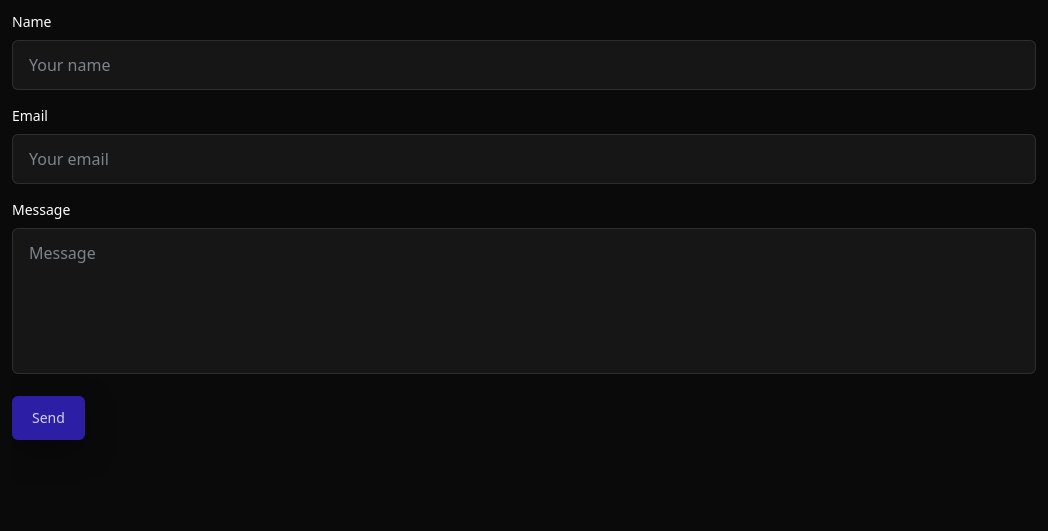
Test case: ContactForm › announces a request timeout
Type "Gabriel" into the field with placeholder "Your name".
click(524, 65); type("Gabriel")  # box [12,40,1036,90]
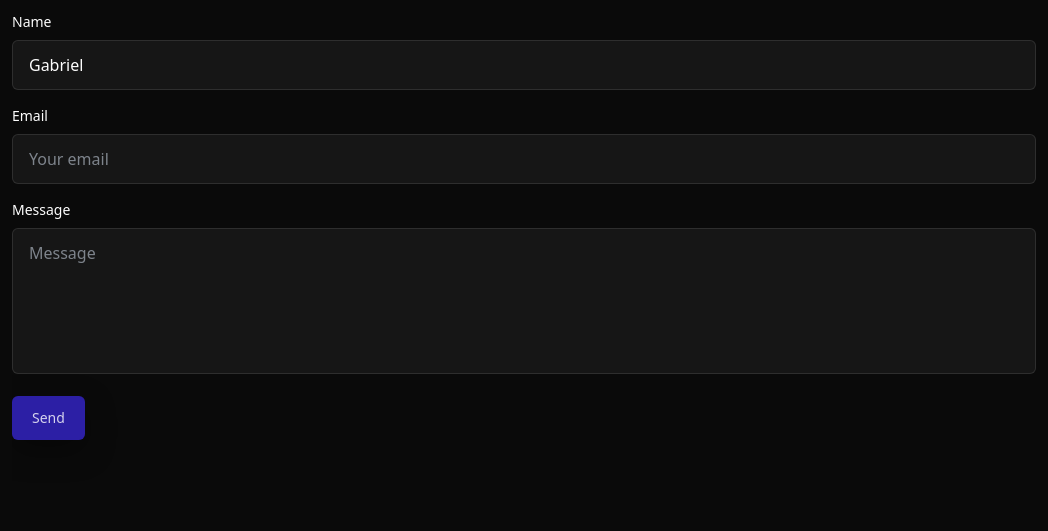
Type "gabriel@example.com" into the field with placeholder "Your email".
click(524, 159); type("gabriel@example.com")  # box [12,134,1036,184]
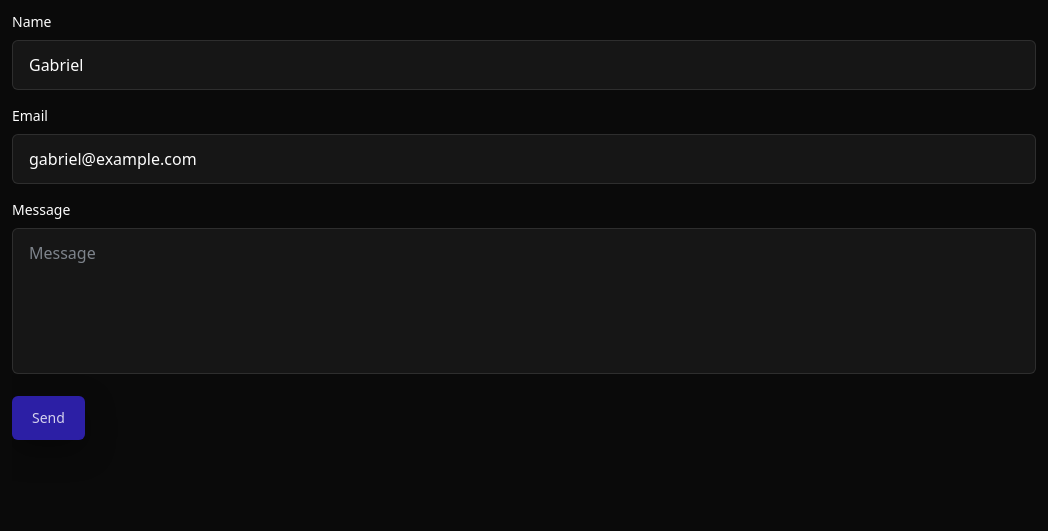
Type "Hello" into the text box with placeholder "Message".
click(524, 301); type("Hello")  # box [12,228,1036,374]
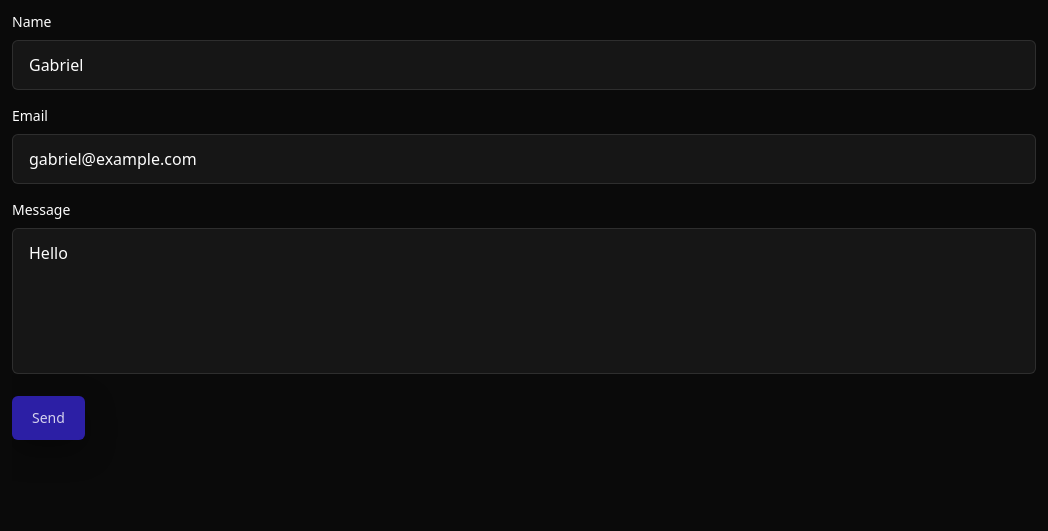
Click the button "Send".
click(48, 418)  # box [12,396,85,440]
Wait 10000 ms
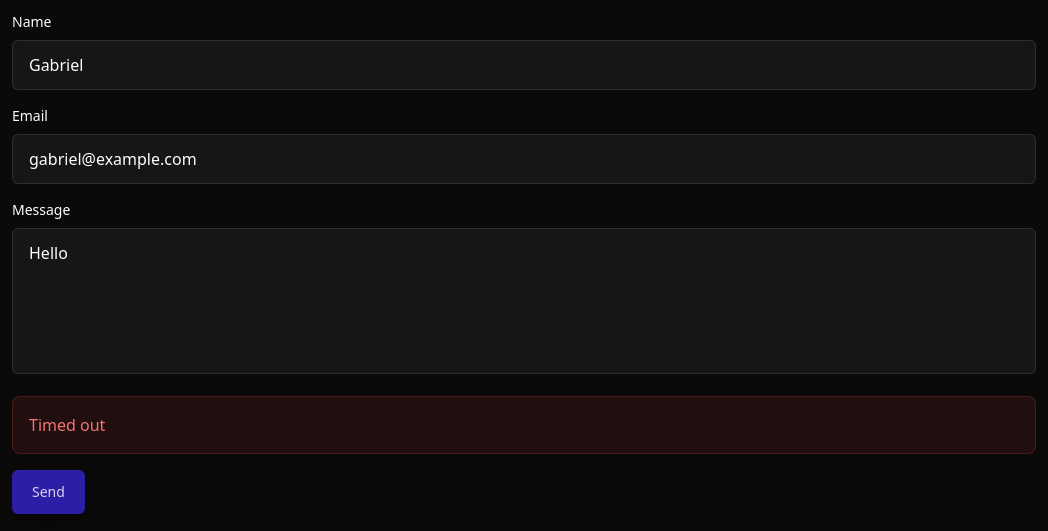
Expected: the message reads "Timed out", [29,414,105,436]
